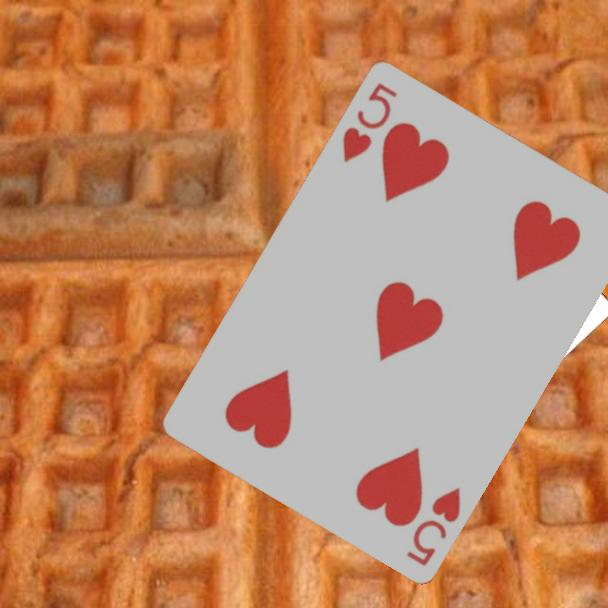h05: (338, 78, 401, 165), (402, 483, 464, 569)
